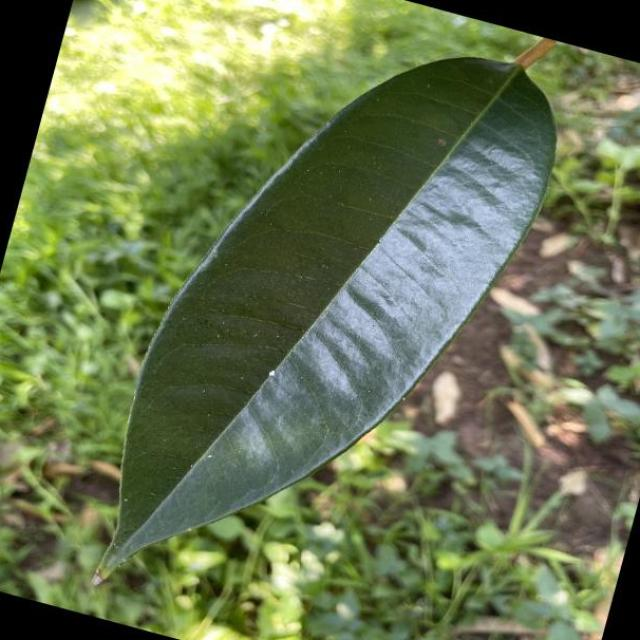No Disease: (70, 0, 590, 640)
